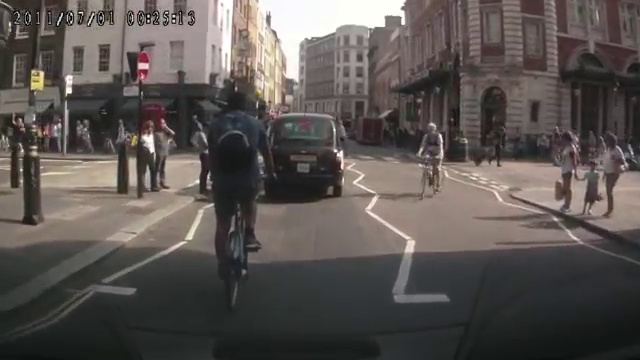cyclist_back: (206, 89, 264, 306)
cyclist_front: (416, 118, 446, 199)
